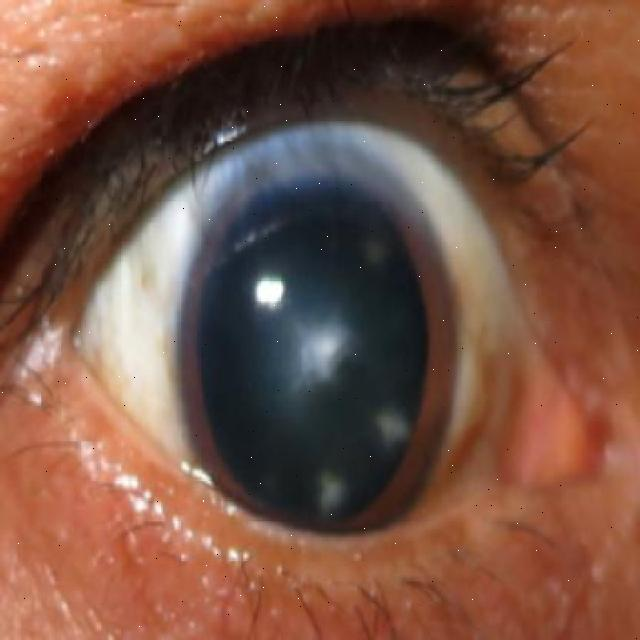Cataract: (166, 140, 457, 578)
